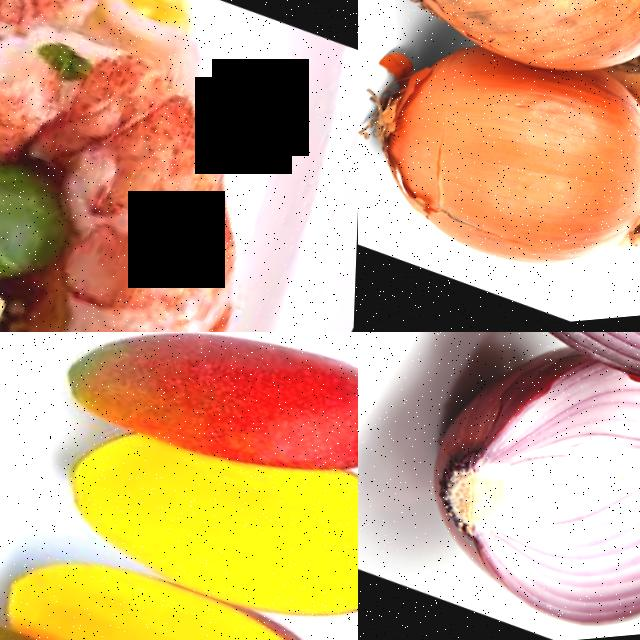mango: (32, 386, 358, 640), (49, 332, 358, 548), (0, 509, 358, 640)
onion: (358, 0, 640, 332), (384, 332, 640, 640), (403, 332, 640, 486), (371, 0, 640, 124)
